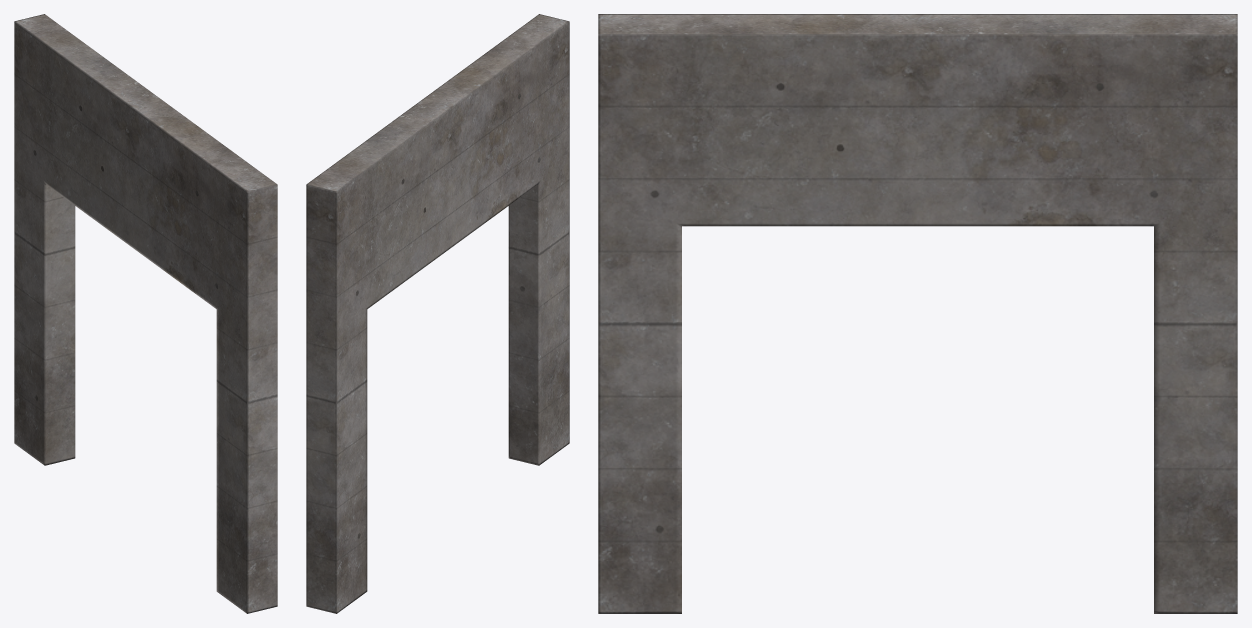
Rendered from Con_ConcreteWall06.fbx.
3 renders of one model, left to right at view 1: azimuth 30°, elevation 25°; view 2: azimuth 150°, elevation 25°; view 3: azimuth 270°, elevation 25°, orthographic. The views are drawn at different scales.
Visible parts, largest first — view 1: SM_ConcreteWall06; view 2: SM_ConcreteWall06; view 3: SM_ConcreteWall06.
Part boxes in pixels (x1,y1,x2,y2): SM_ConcreteWall06: (14,14,277,613); SM_ConcreteWall06: (306,14,569,613); SM_ConcreteWall06: (598,14,1237,613).
Bounding box in the file's own units: 0.3003 × 4 × 4.
Materials: 1 (1 with a texture image).
